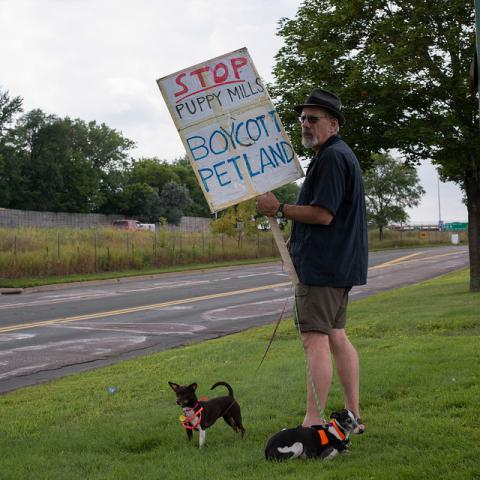truck: (111, 220, 149, 232)
